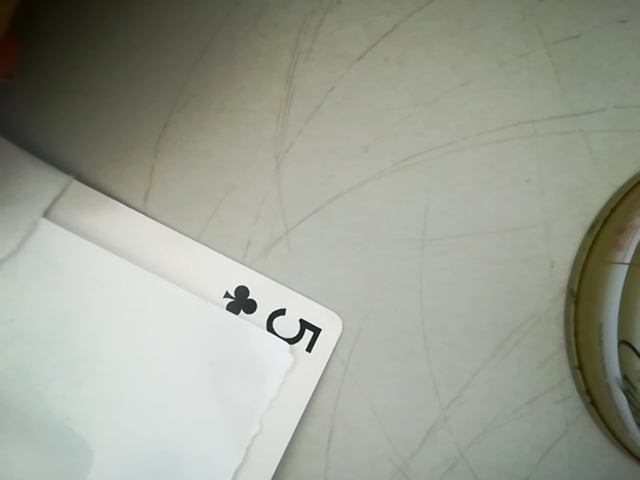mh 5: (214, 278, 339, 364)
